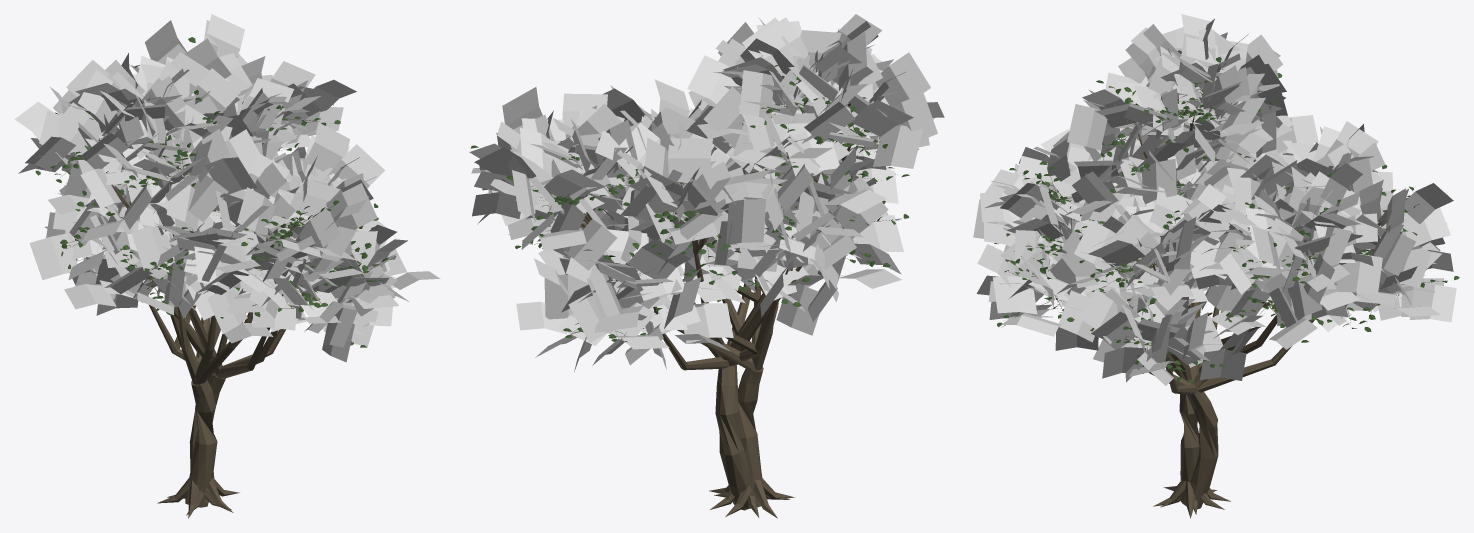
File: CheneVert_Bifurque_LOD0.fbx
The picture shows the model from 3 angles, left to right: view 1: azimuth 30°, elevation 25°; view 2: azimuth 150°, elevation 25°; view 3: azimuth 270°, elevation 25°; orthographic projection. The views are drawn at different scales.
Parts seen in each view (by area): view 1: CheneVert_Bifurque; view 2: CheneVert_Bifurque; view 3: CheneVert_Bifurque.
Part boxes in pixels (x1=…): CheneVert_Bifurque: x1=14, y1=14, x2=440, y2=518; CheneVert_Bifurque: x1=469, y1=14, x2=944, y2=518; CheneVert_Bifurque: x1=973, y1=14, x2=1459, y2=518.
Bounding box in the file's own units: 688 × 803 × 799.
